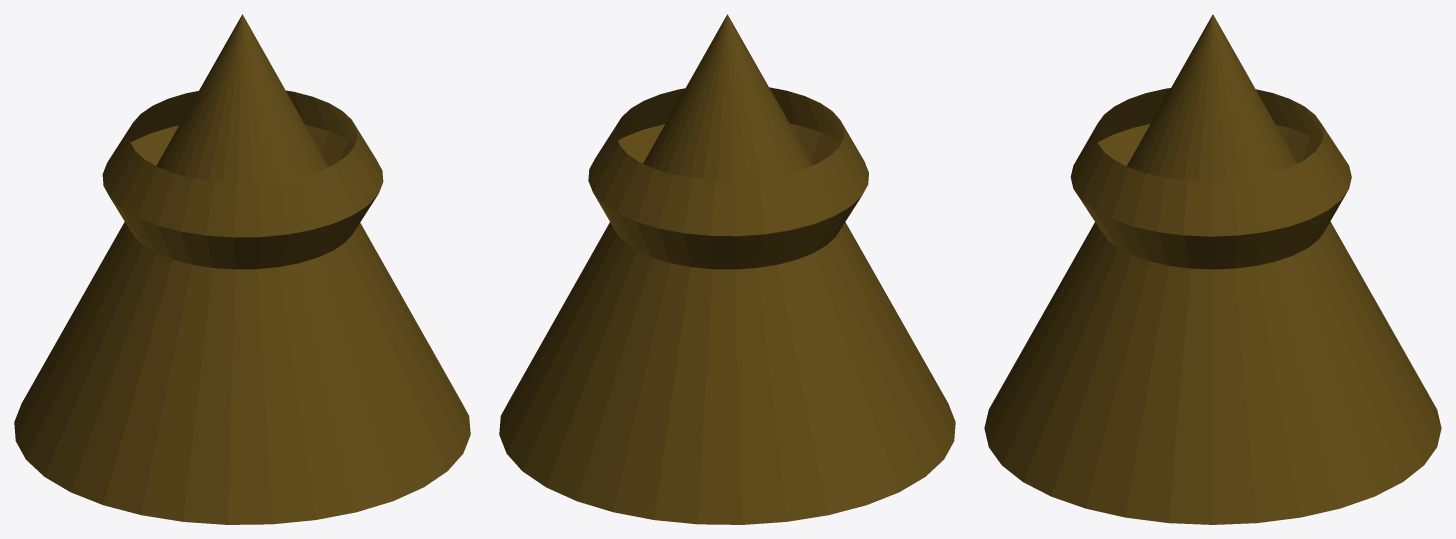
The model's file is aztecconeblend2.fbx.
The picture shows the model from 3 angles, left to right: view 1: azimuth 30°, elevation 25°; view 2: azimuth 150°, elevation 25°; view 3: azimuth 270°, elevation 25°; orthographic projection.
Parts seen in each view (by area): view 1: Cone; view 2: Cone; view 3: Cone.
Boxes of the visible parts, x1,y1,x2,y2 form: Cone: (14,14,470,524); Cone: (499,14,955,524); Cone: (984,14,1441,524).
Size of the model in its own units: 200 by 200 by 200.
